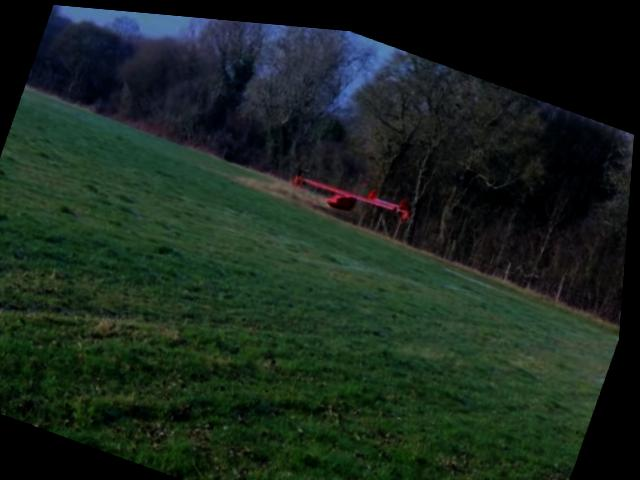uav: (294, 147, 418, 231)
